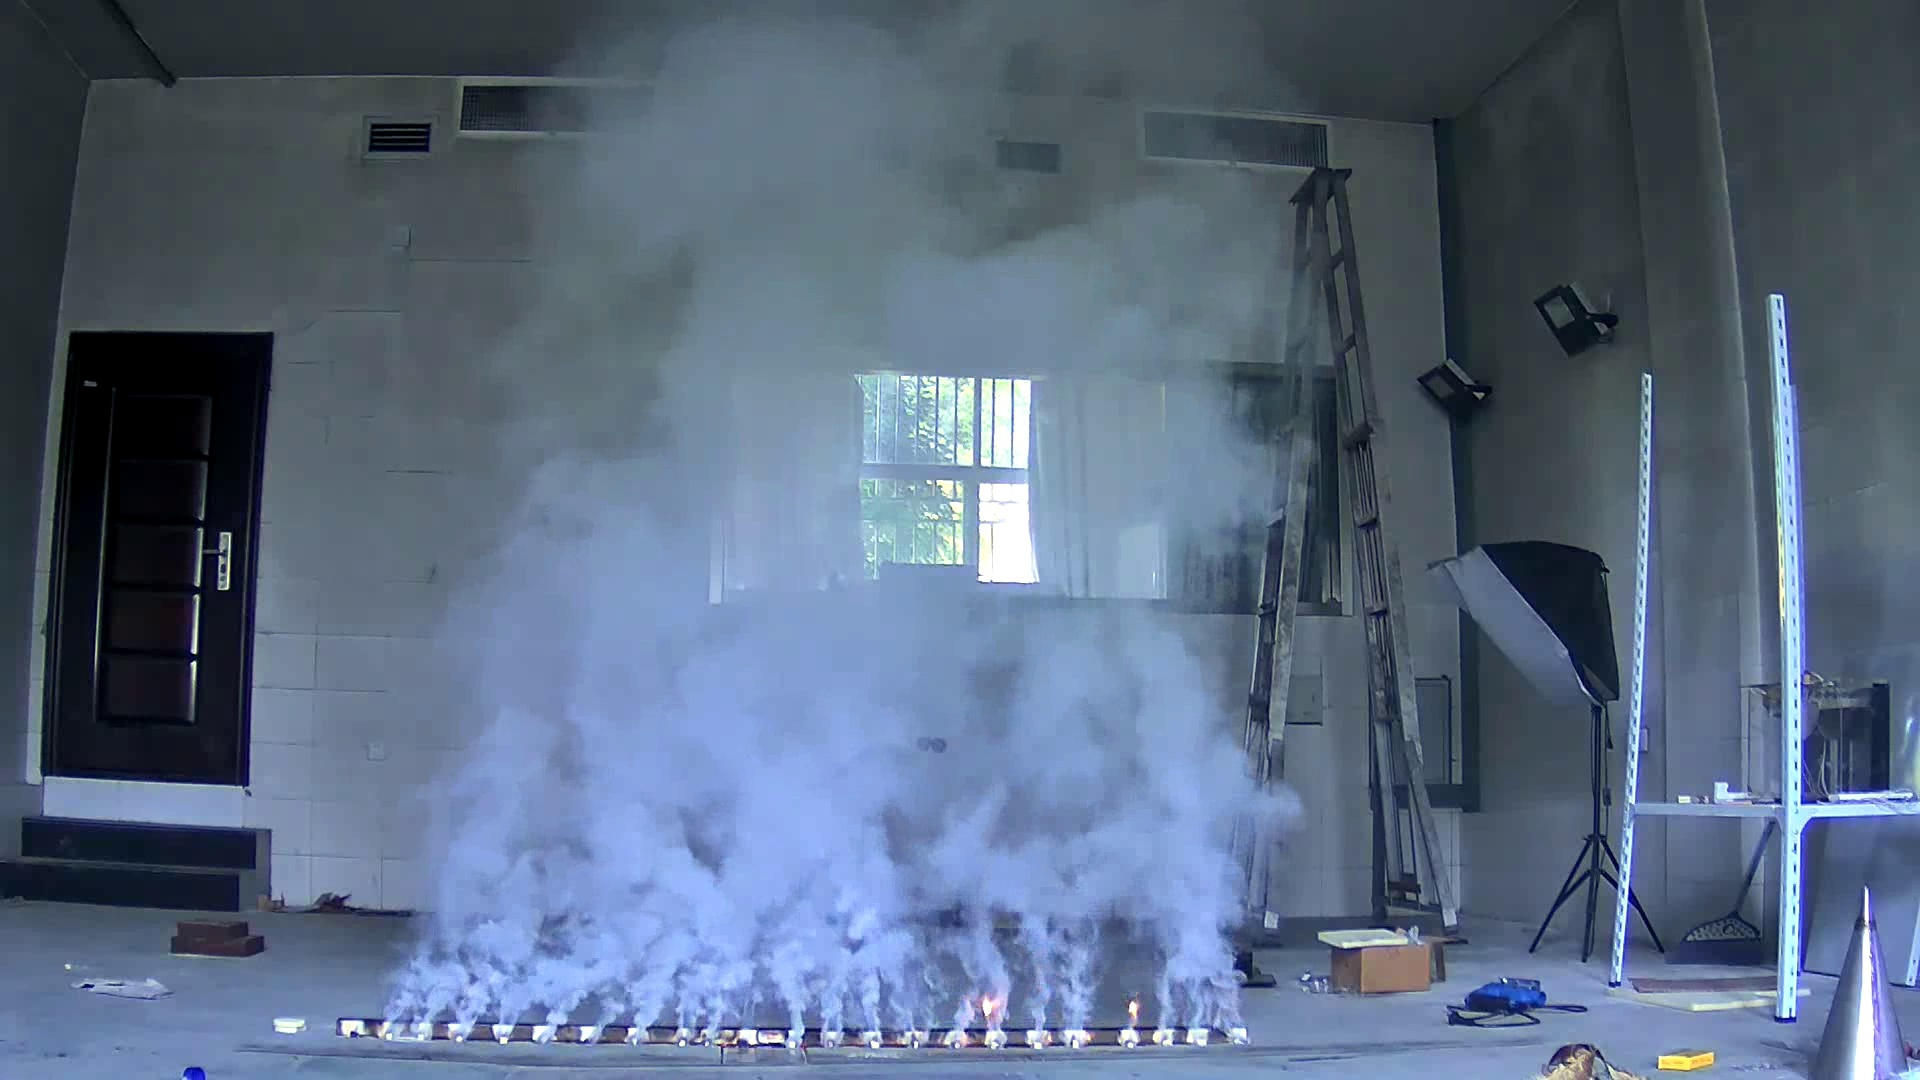smoke: (361, 487, 1288, 1034)
